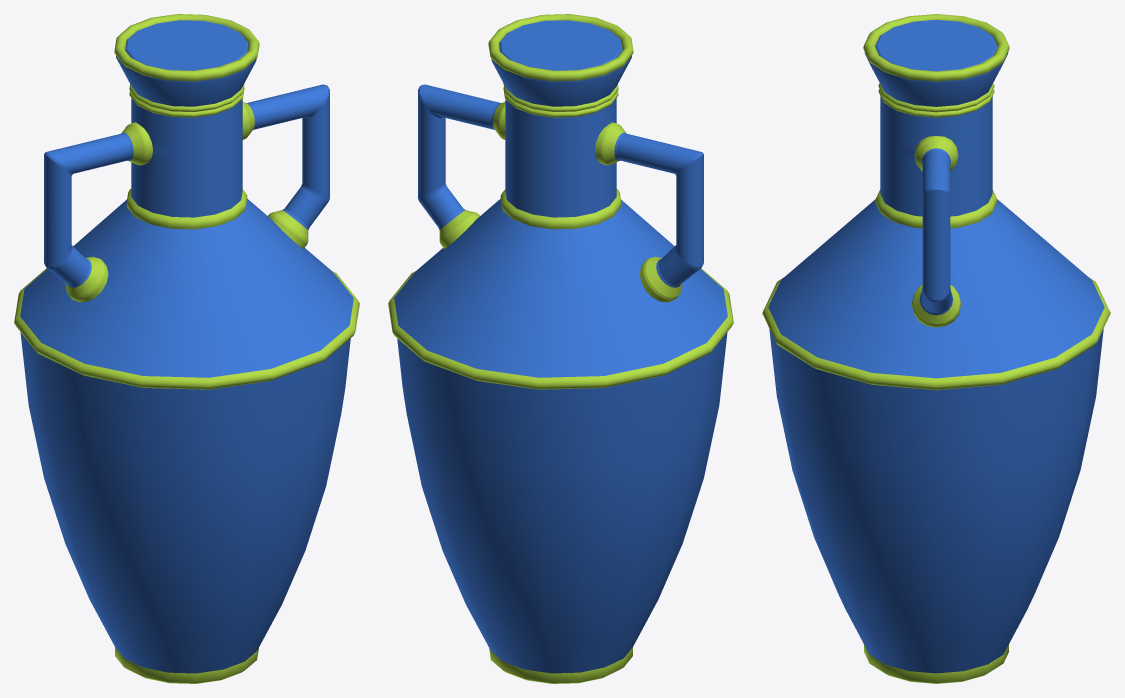
The model's file is Pot.fbx.
3 views of the same model, side by side, from view 1: azimuth 30°, elevation 25°; view 2: azimuth 150°, elevation 25°; view 3: azimuth 270°, elevation 25° (orthographic).
Visible parts, largest first — view 1: Cylinder; view 2: Cylinder; view 3: Cylinder.
Part boxes in pixels (x1,y1,x2,y2): Cylinder: [14, 14, 359, 683]; Cylinder: [388, 14, 733, 683]; Cylinder: [762, 14, 1110, 683].
Bounding box in the file's own units: 44.11 × 85.56 × 44.11.
